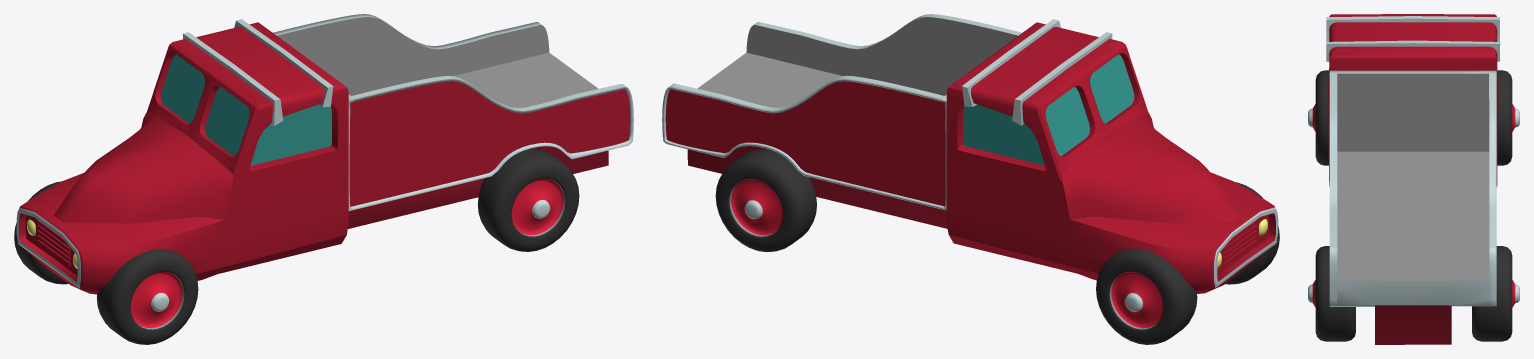
File: Ernest.fbx
3 views of the same model, side by side, from view 1: azimuth 30°, elevation 25°; view 2: azimuth 150°, elevation 25°; view 3: azimuth 270°, elevation 25° (orthographic). The views are drawn at different scales.
Parts seen in each view (by area): view 1: car_front, car_back, wheels_bak, car_frontgrid; view 2: car_front, car_back, wheels_bak, car_frontgrid; view 3: car_back, car_front, wheels_bak.
Boxes of the visible parts, x1,y1,x2,y2 form: car_front: (16,19,348,294); car_back: (273,14,633,228); wheels_bak: (14,148,579,344); car_frontgrid: (27,219,77,268); car_front: (946,19,1278,293); car_back: (662,14,1022,228); wheels_bak: (715,149,1279,344); car_frontgrid: (1217,219,1267,268); car_back: (1329,70,1496,344); car_front: (1326,14,1500,186); wheels_bak: (1308,70,1519,341).
Size of the model in its own units: 7.04 by 2.53 by 2.65.
